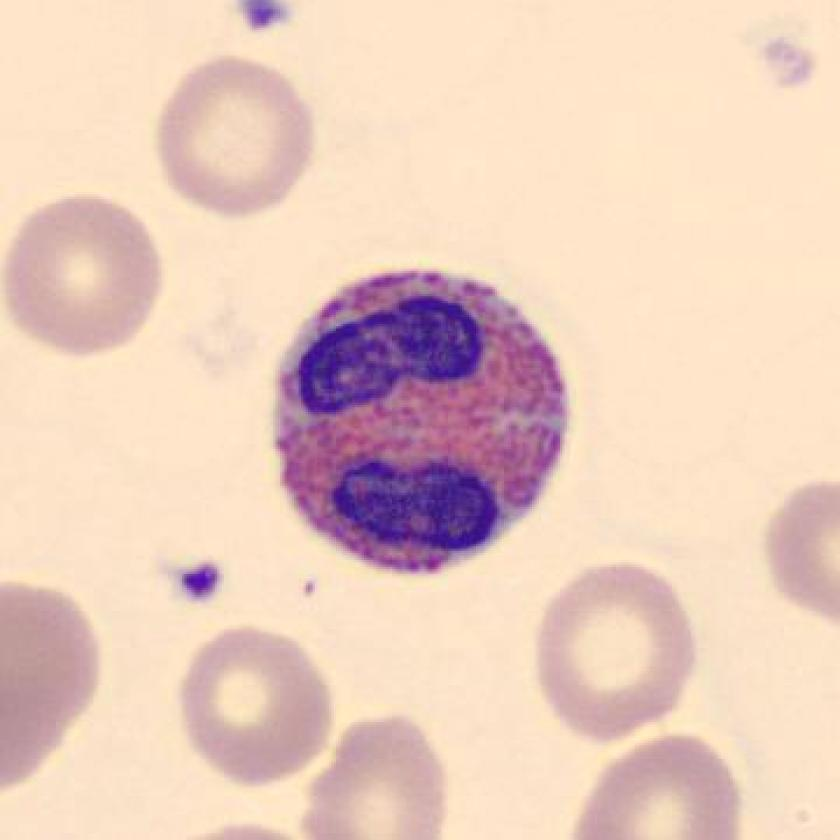eosinophil: (262, 253, 580, 589)
